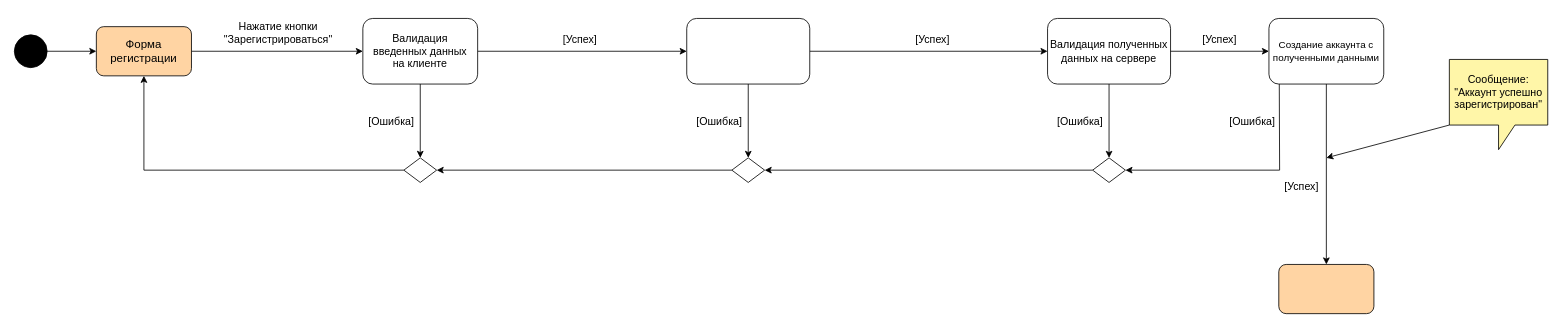
Image size: 1562x328. Some labels were removed from this diagram. The centre of each missing label's shape, as x and y in pixels:
"Отправка данных на сервер (например, в JSON-формате)" goes at pixel 748 51.
"Форма входа" goes at pixel 1326 289.
